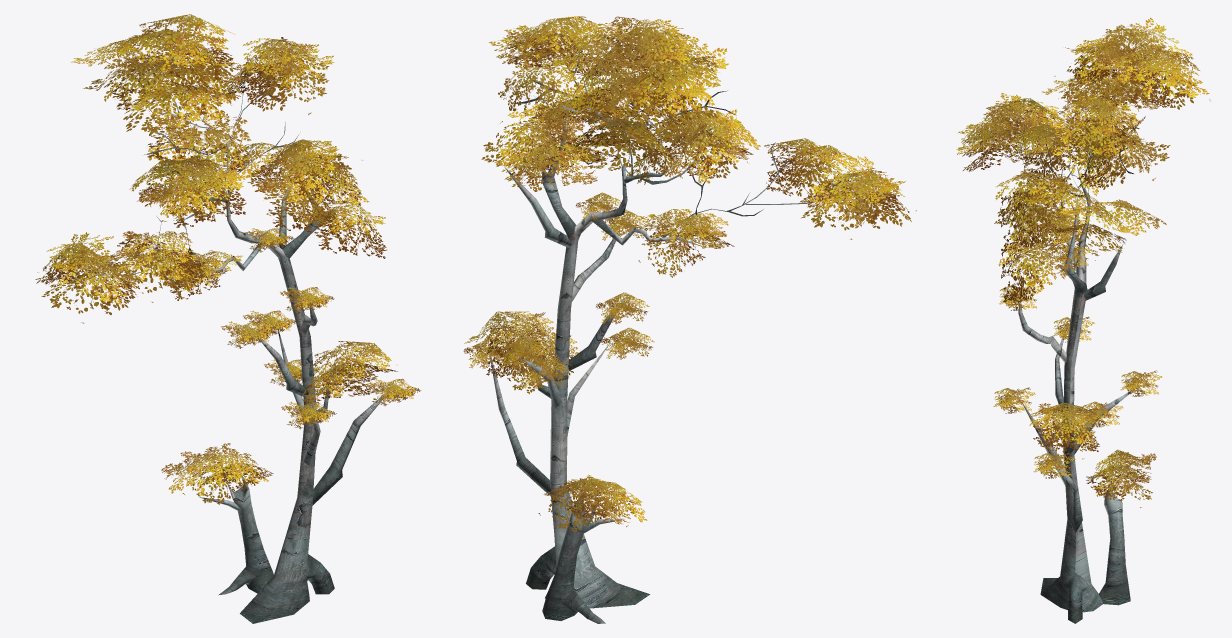
The model's file is wd_zhiwu_01.FBX.
The picture shows the model from 3 angles, left to right: view 1: azimuth 30°, elevation 25°; view 2: azimuth 150°, elevation 25°; view 3: azimuth 270°, elevation 25°; orthographic projection. The views are drawn at different scales.
Parts seen in each view (by area): view 1: wd_zhiwu_01; view 2: wd_zhiwu_01; view 3: wd_zhiwu_01.
Boxes of the visible parts, x1,y1,x2,y2 form: wd_zhiwu_01: (35, 14, 421, 623); wd_zhiwu_01: (463, 16, 916, 623); wd_zhiwu_01: (956, 17, 1210, 623).
Size of the model in its own units: 8.55 by 11.58 by 5.38.
